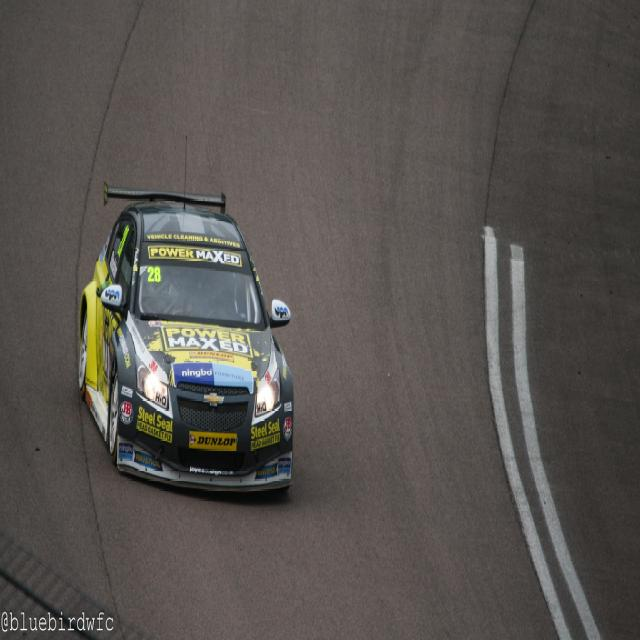car: (73, 119, 291, 487)
